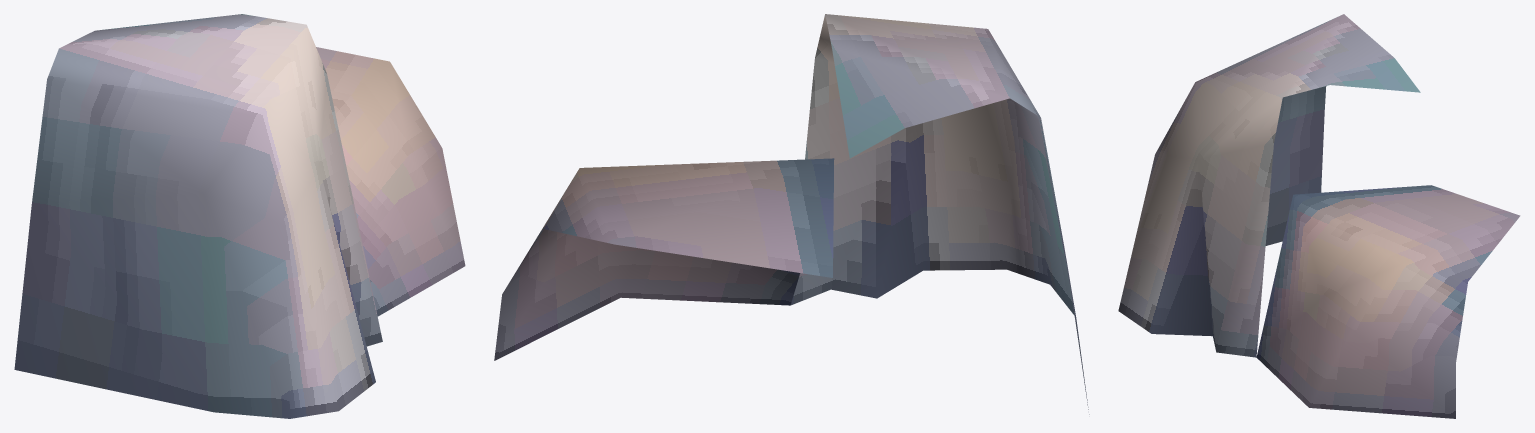
Rendered from fg_stoneE.dae.
The picture shows the model from 3 angles, left to right: view 1: azimuth 30°, elevation 25°; view 2: azimuth 150°, elevation 25°; view 3: azimuth 270°, elevation 25°; orthographic projection. The views are drawn at different scales.
Visible parts, largest first — view 1: fg_stoneE; view 2: fg_stoneE; view 3: fg_stoneE.
Boxes of the visible parts, bbox=[...] form: fg_stoneE: bbox=[14, 14, 465, 418]; fg_stoneE: bbox=[494, 14, 1089, 414]; fg_stoneE: bbox=[1118, 14, 1520, 418].
Size of the model in its own units: 33.67 by 20.15 by 30.49.
1 material, 1 textured.
